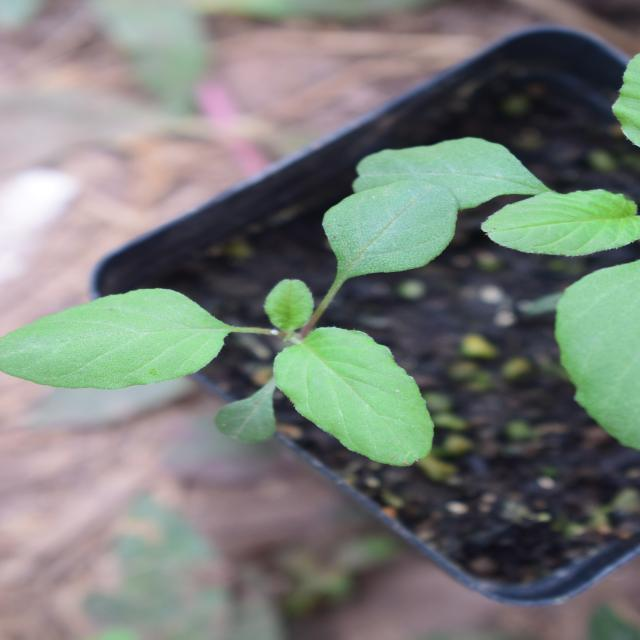pigweed: (202, 1, 460, 480)
